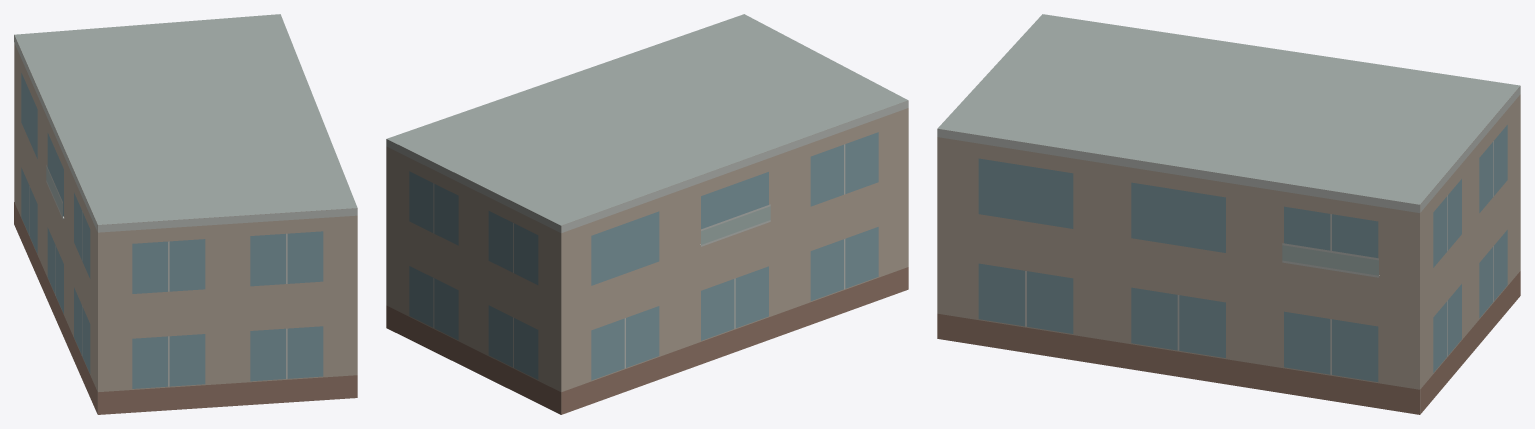
File: survey-upis-32868114.glb
3 renders of one model, left to right at view 1: azimuth 30°, elevation 25°; view 2: azimuth 150°, elevation 25°; view 3: azimuth 270°, elevation 25°, orthographic. The views are drawn at different scales.
Parts seen in each view (by area): view 1: survey-upis-32868114.tmp; view 2: survey-upis-32868114.tmp; view 3: survey-upis-32868114.tmp.
Part boxes in pixels (<box>): survey-upis-32868114.tmp: <box>14,14,357,414</box>; survey-upis-32868114.tmp: <box>386,14,908,414</box>; survey-upis-32868114.tmp: <box>937,14,1520,414</box>.
Bounding box in the file's own units: 11.89 × 6.1 × 15.36.
